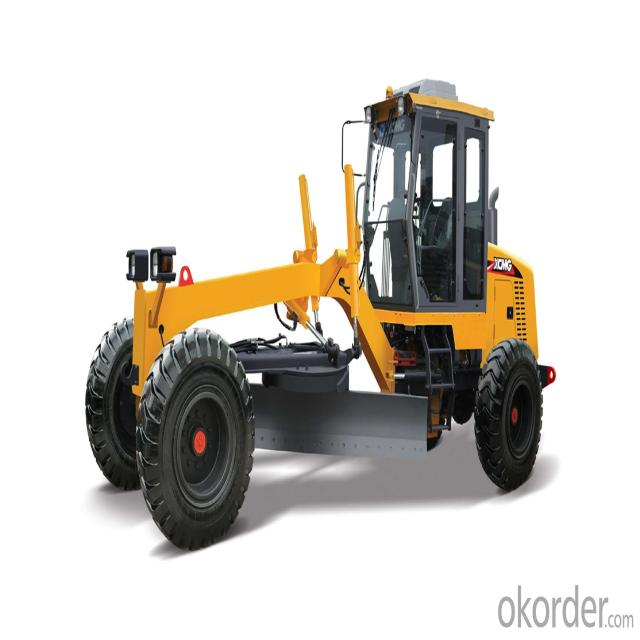buldozerpayloadergrader: (64, 70, 563, 548)
